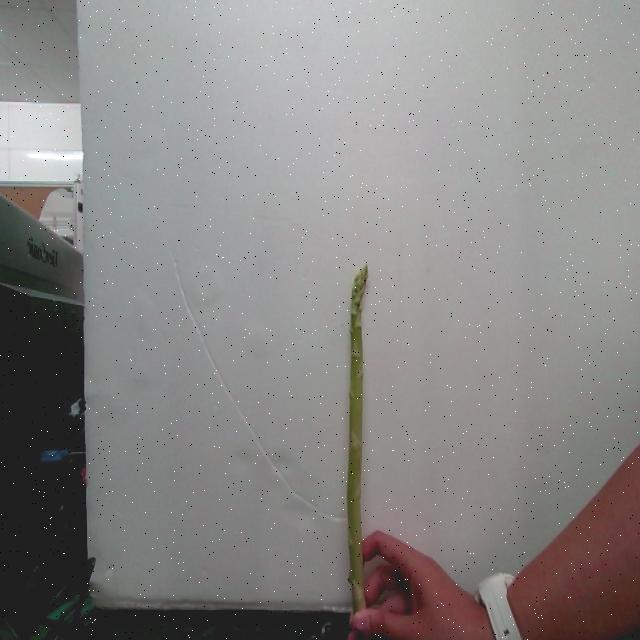aspargus: (345, 267, 368, 614)
